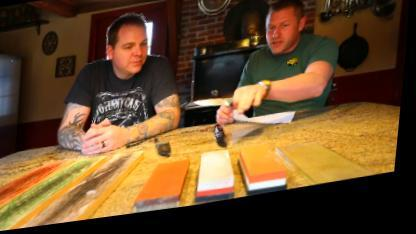knife: (189, 87, 264, 129)
